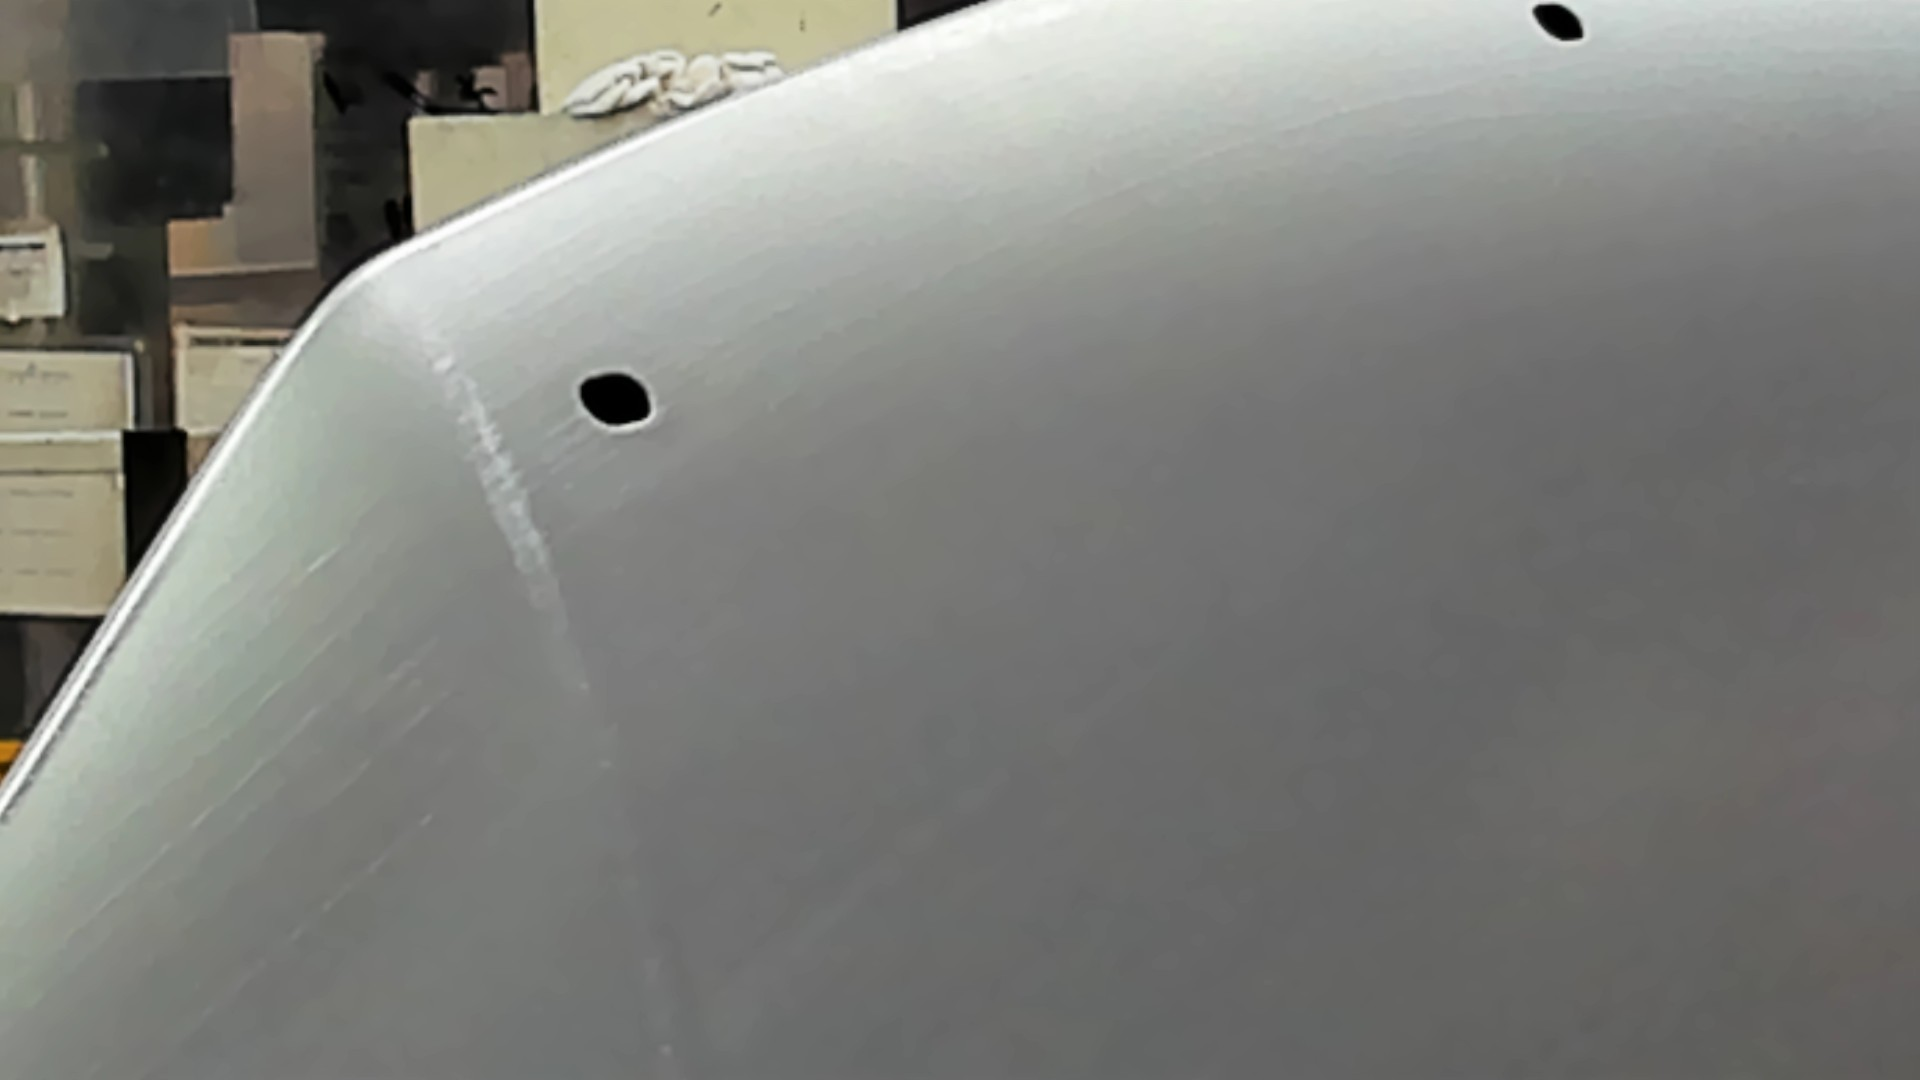amorfo: (568, 361, 666, 438), (1524, 1, 1596, 53)
capo: (798, 127, 1920, 1080)
